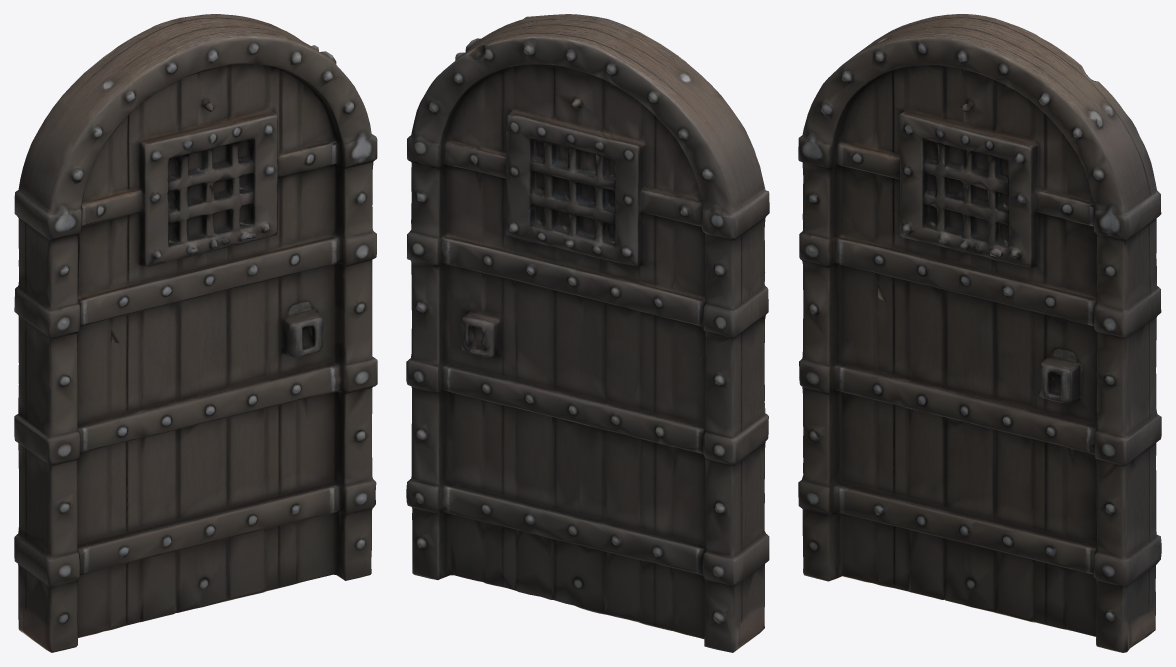
Rendered from iron_door_barred.glb.
3 views of the same model, side by side, from view 1: azimuth 30°, elevation 25°; view 2: azimuth 150°, elevation 25°; view 3: azimuth 330°, elevation 25° (orthographic).
Bounding box in the file's own units: 1.2 × 2 × 0.2612.
Materials: 1 (1 with a texture image).
